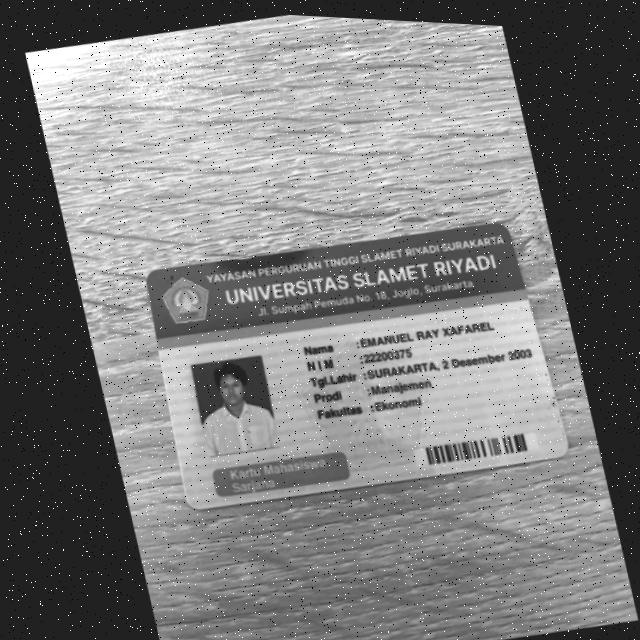card: (148, 224, 567, 508)
